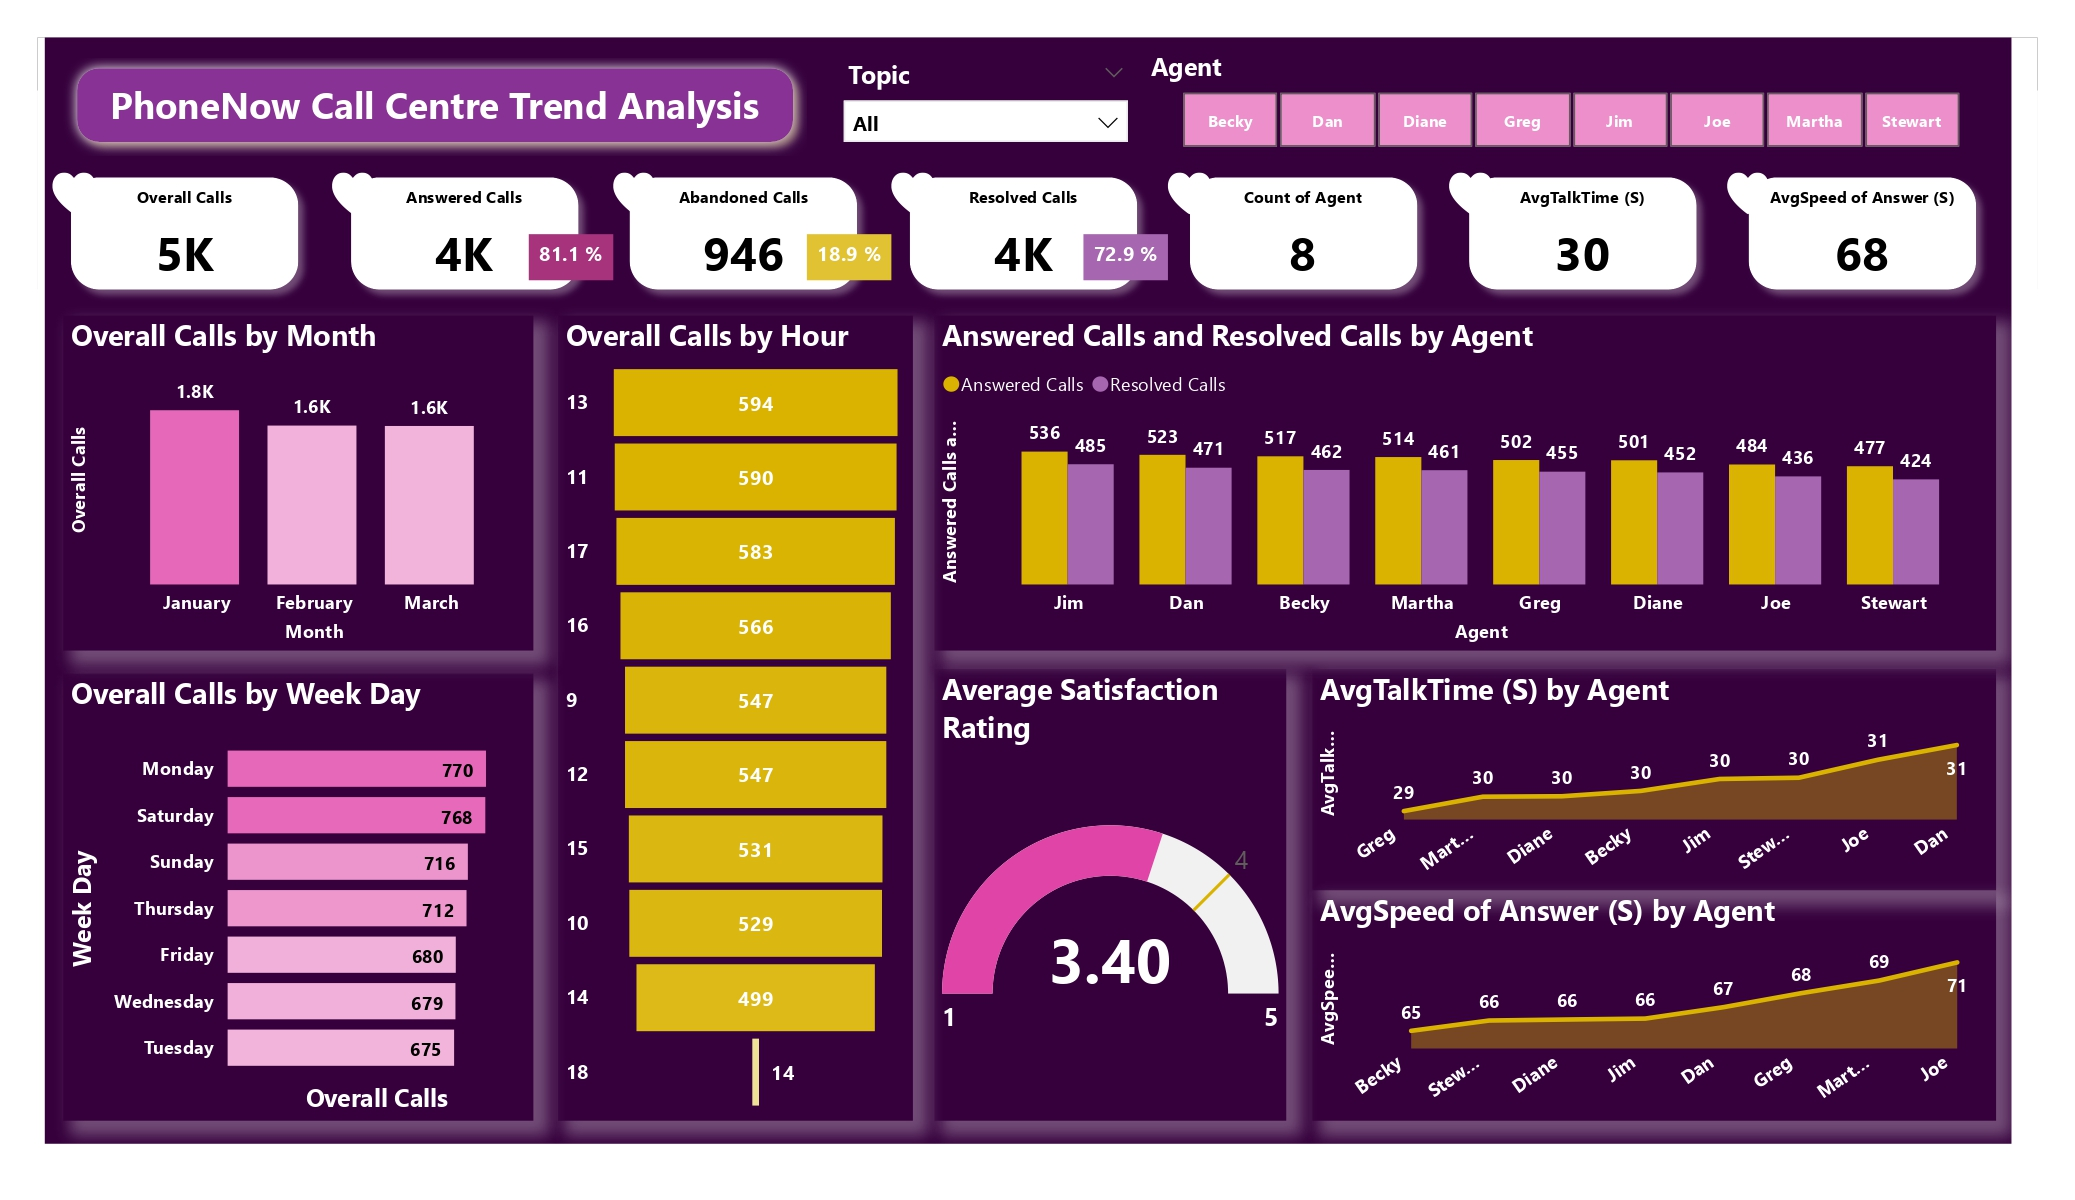

This screenshot's page, from the dashboard's own definition file:
{"tool":"powerbi","page":{"name":"Page 1","canvas":[1280,720],"ordinal":0},"visuals":[{"type":"shape","box":[12.4,11,484,66],"z":0},{"type":"cardVisual","fields":{"Data":["data.Overall Calls","data.Answered Calls","data.Unanswered Calls","data.Resolved Calls","data.Agent","data.AvgTalkTime","data.Avg Speed of Answer"]},"box":[0,74.2,1280,107.2],"z":1000},{"type":"clusteredColumnChart","fields":{"Y":["data.Overall Calls"],"Category":["data.Date.Variation.Date Hierarchy.Month"]},"box":[12.4,181.5,305.2,217.2],"z":2000},{"type":"clusteredColumnChart","fields":{"Category":["data.Agent"],"Y":["data.Answered Calls","data.Resolved Calls"]},"box":[578.8,181.5,691.6,217.2],"z":3000},{"type":"funnel","fields":{"Category":["data.Hour"],"Y":["data.Overall Calls"]},"box":[334.1,181.5,231,523.8],"z":4000},{"type":"areaChart","fields":{"Category":["data.Agent"],"Y":["data.AvgTalkTime"]},"box":[824.9,411.1,445.5,144.4],"z":5000},{"type":"areaChart","fields":{"Category":["data.Agent"],"Y":["data.Avg Speed of Answer"]},"box":[824.9,555.4,445.5,149.9],"z":6000},{"type":"clusteredBarChart","fields":{"Category":["data.Week Day"],"Y":["data.Overall Calls"]},"box":[12.4,413.8,305.2,291.5],"z":7000},{"type":"slicer","title":"Agent","fields":{"Values":["data.Agent"]},"box":[714.9,8.2,555.4,70.1],"z":8000},{"type":"shape","box":[5.5,88,27.5,27.5],"z":9000},{"type":"shape","box":[187,88,27.5,27.5],"z":10000},{"type":"shape","box":[369.8,88,27.5,27.5],"z":11000},{"type":"shape","box":[551.3,88,27.5,27.5],"z":12000},{"type":"shape","box":[731.4,88,27.5,27.5],"z":13000},{"type":"shape","box":[914.3,88,27.5,27.5],"z":14000},{"type":"shape","box":[1095,88,27,27],"z":15000},{"type":"card","fields":{"Values":["data.% Resolved Calls"]},"box":[676.4,127.9,55,30.2],"z":16000},{"type":"card","fields":{"Values":["data.% Answwered Calls"]},"box":[314.8,127.9,55,30.2],"z":17000},{"type":"card","fields":{"Values":["data.% Abandoned Calls"]},"box":[496.3,127.9,55,30.2],"z":18000},{"type":"gauge","title":"Average Satisfaction Rating","fields":{"MaxValue":["data.Max Satisfaction"],"MinValue":["data.Min Satisfaction"],"Y":["data.AvgSatisfaction"],"TargetValue":["data.Avg Satisfaction"]},"box":[578.8,411.1,229.6,294.2],"z":19000},{"type":"slicer","fields":{"Values":["data.Topic"]},"box":[510.1,8.2,204.9,70.1],"z":20000}]}

Visuals, with their boxes on the page's 1280x720 design canvas (x1, y1, x2, y2). These are canvas units, not pixel positions in the 2075x1200 screenshot, which may show the page scaled, cropped or inside an application window:
shape: rect(12, 11, 496, 77)
cardVisual - data.Overall Calls x data.Answered Calls: rect(0, 74, 1280, 181)
clusteredColumnChart - data.Overall Calls x data.Date.Variation.Date Hierarchy.Month: rect(12, 182, 318, 399)
clusteredColumnChart - data.Agent x data.Answered Calls: rect(579, 182, 1270, 399)
funnel - data.Hour x data.Overall Calls: rect(334, 182, 565, 705)
areaChart - data.Agent x data.AvgTalkTime: rect(825, 411, 1270, 556)
areaChart - data.Agent x data.Avg Speed of Answer: rect(825, 555, 1270, 705)
clusteredBarChart - data.Week Day x data.Overall Calls: rect(12, 414, 318, 705)
"Agent" slicer: rect(715, 8, 1270, 78)
shape: rect(6, 88, 33, 116)
shape: rect(187, 88, 214, 116)
shape: rect(370, 88, 397, 116)
shape: rect(551, 88, 579, 116)
shape: rect(731, 88, 759, 116)
shape: rect(914, 88, 942, 116)
shape: rect(1095, 88, 1122, 115)
card - data.% Resolved Calls: rect(676, 128, 731, 158)
card - data.% Answwered Calls: rect(315, 128, 370, 158)
card - data.% Abandoned Calls: rect(496, 128, 551, 158)
"Average Satisfaction Rating" gauge: rect(579, 411, 808, 705)
slicer - data.Topic: rect(510, 8, 715, 78)
